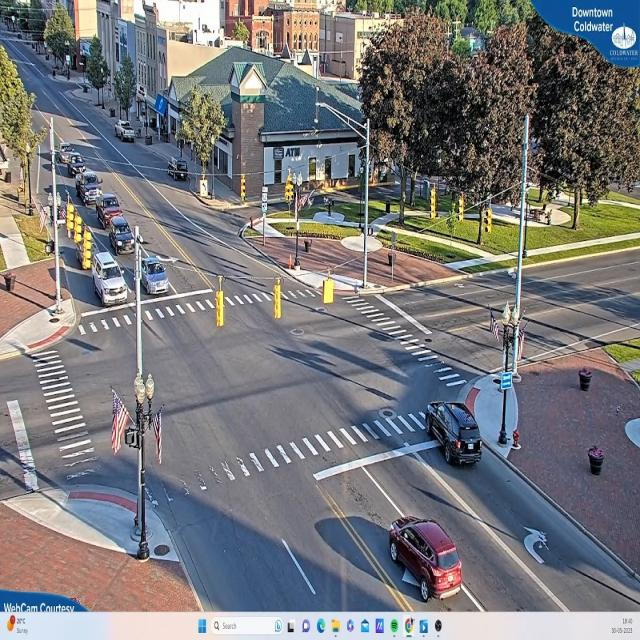car: (387, 520, 467, 608), (427, 400, 482, 468), (92, 249, 130, 306), (142, 255, 172, 297), (110, 218, 134, 253), (99, 190, 122, 224), (117, 123, 136, 143)
